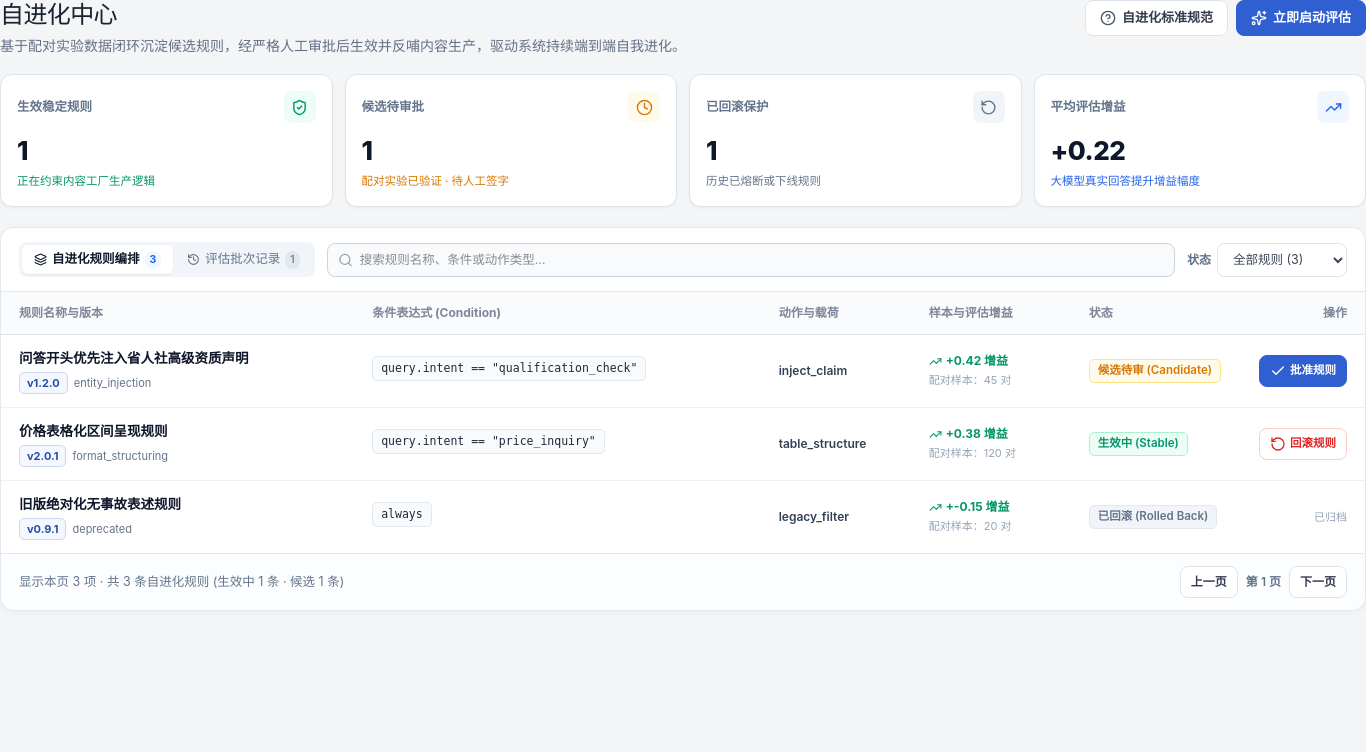
Test: EvolutionView Component Redesign › toggles standards banner and filters rules by keyword
The image size is (1366, 752).
Expected: the text "自进化标准规范" is shown, [1122,8,1213,28]
// Open banner
Click the button "自进化标准规范": (1156, 18) [1085,0,1228,36]
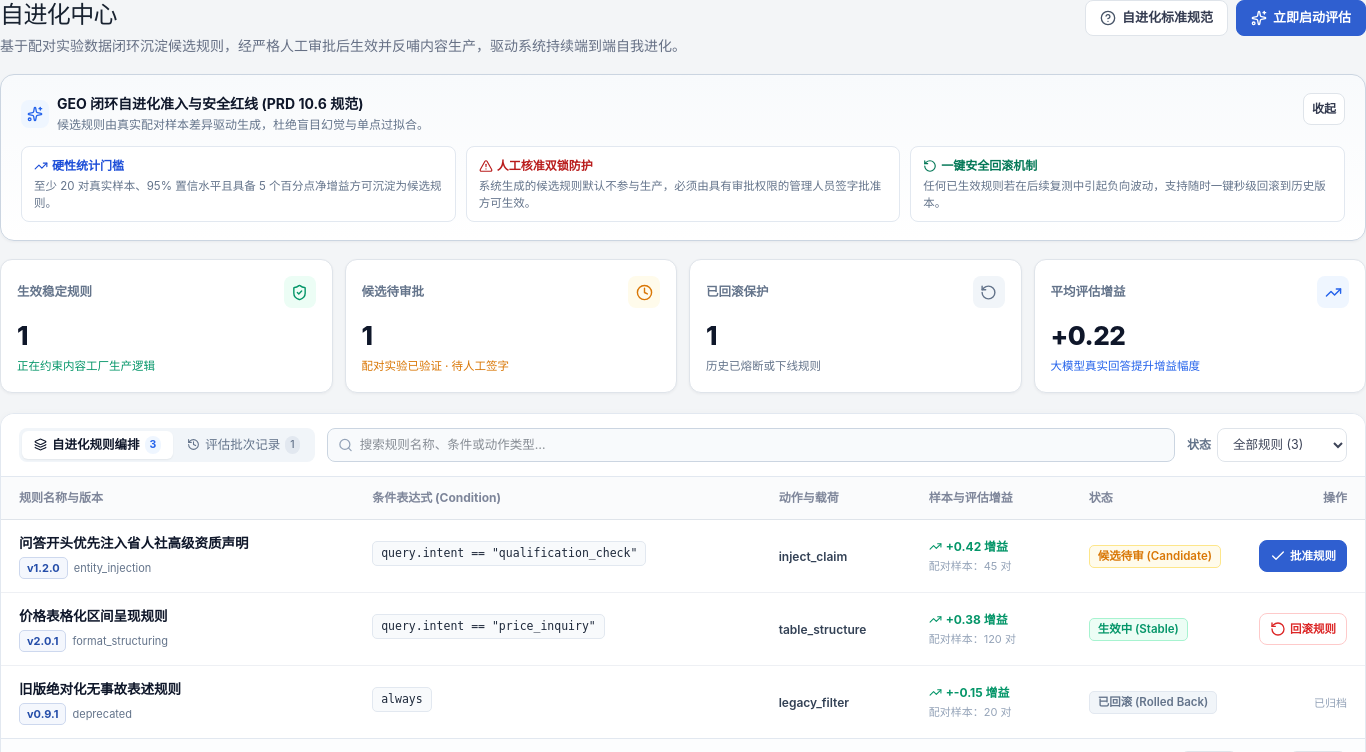
Expected: the heading "GEO 闭环自进化准入与安全红线 (PRD 10.6 规范)" is shown, [57,95,363,112]
// Search rules
In the field with placeholder "搜索规则名称、条件或动作类型…": (751, 445) [327,428,1175,462], type "价格表格化"
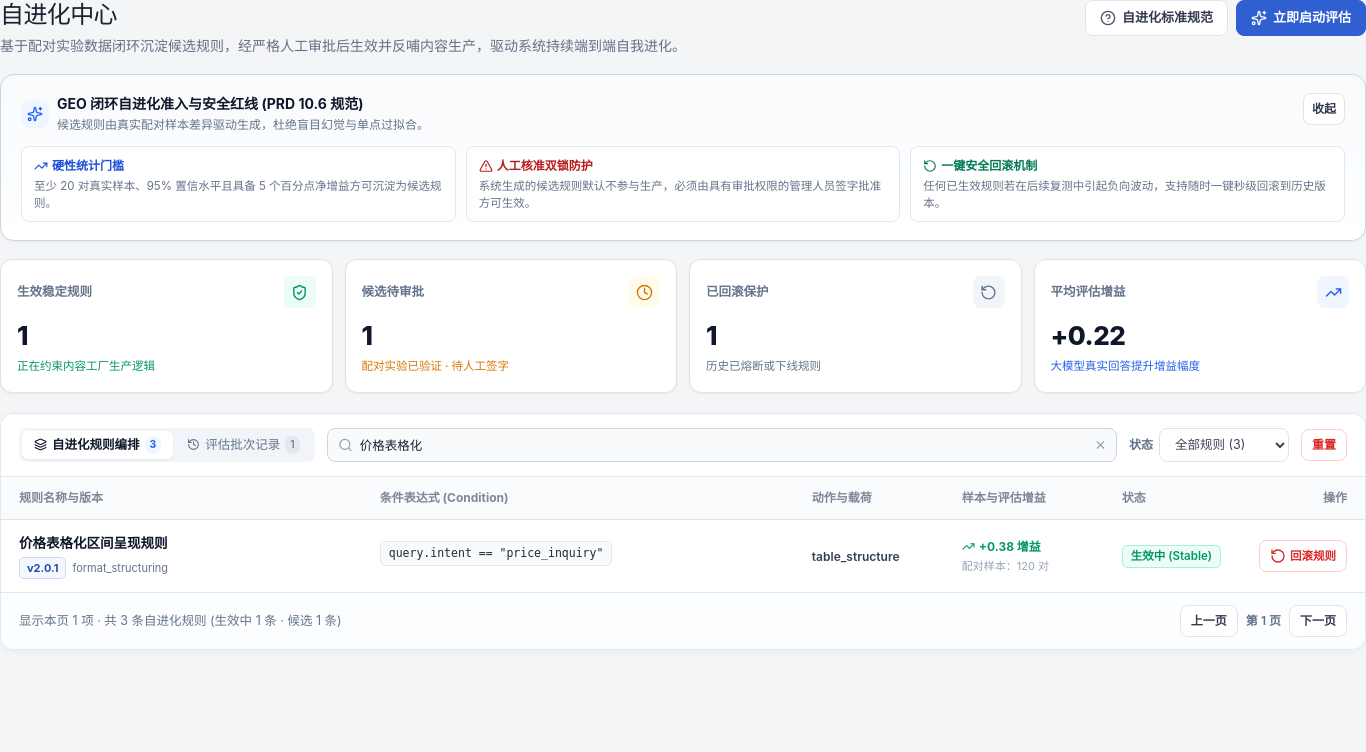
Expected: the text "价格表格化区间呈现规则" is shown, [19,535,168,551]
Expected: the text "问答开头优先注入省人社高级资质声明" is gone
